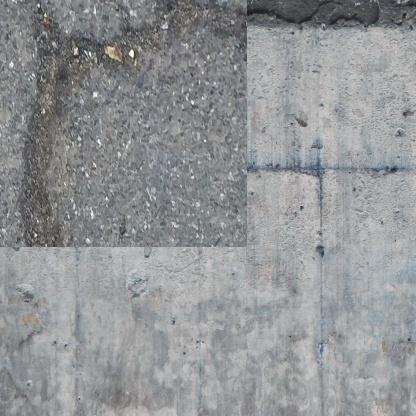Cracks: (11, 0, 228, 228)
